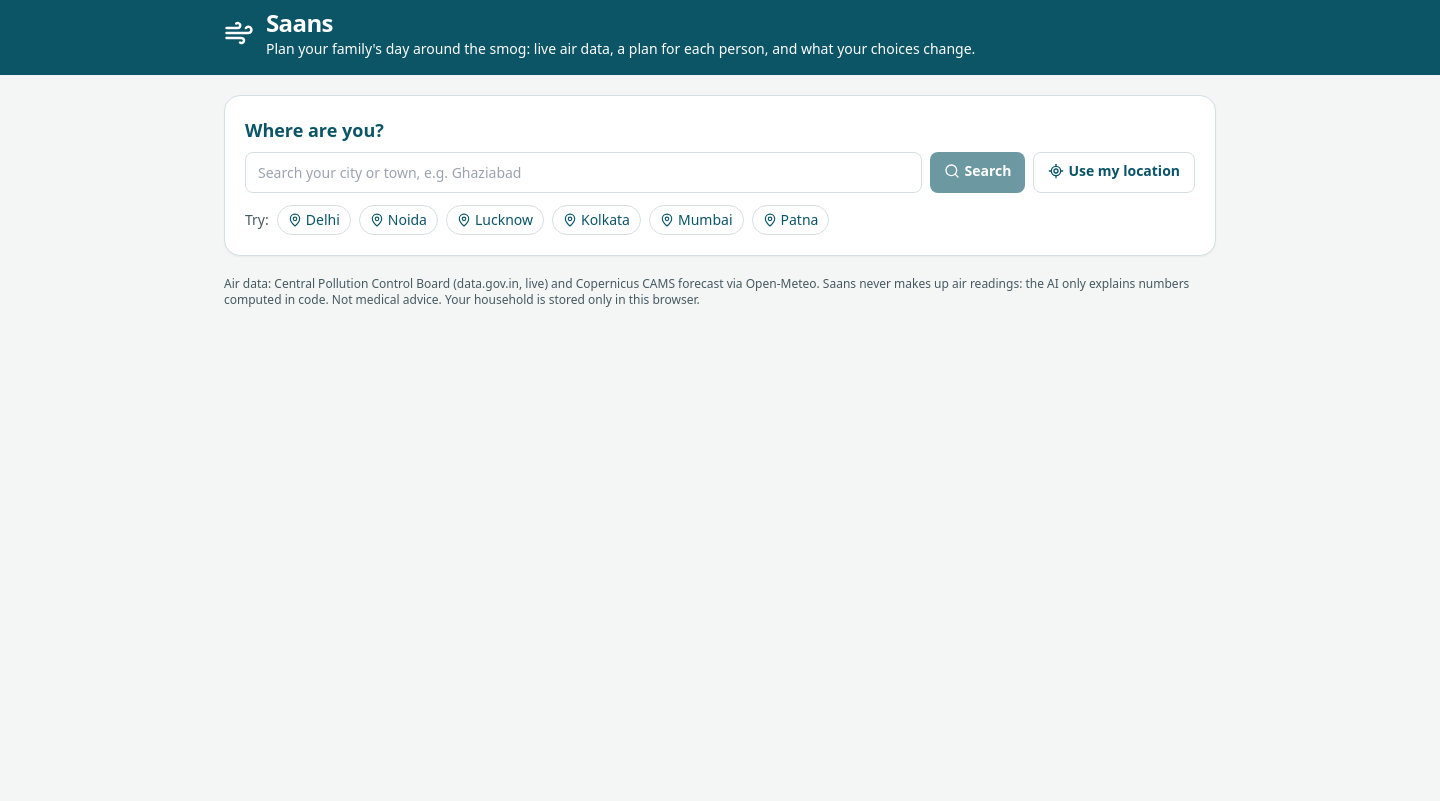
Scenario: Saans › answers questions from the computed plan when AI is off
The width and height of the screenshot is (1440, 801).
Step 1. Click the button "Delhi" → {"x": 314, "y": 220}, box [277, 205, 351, 235]
(page scrolled)
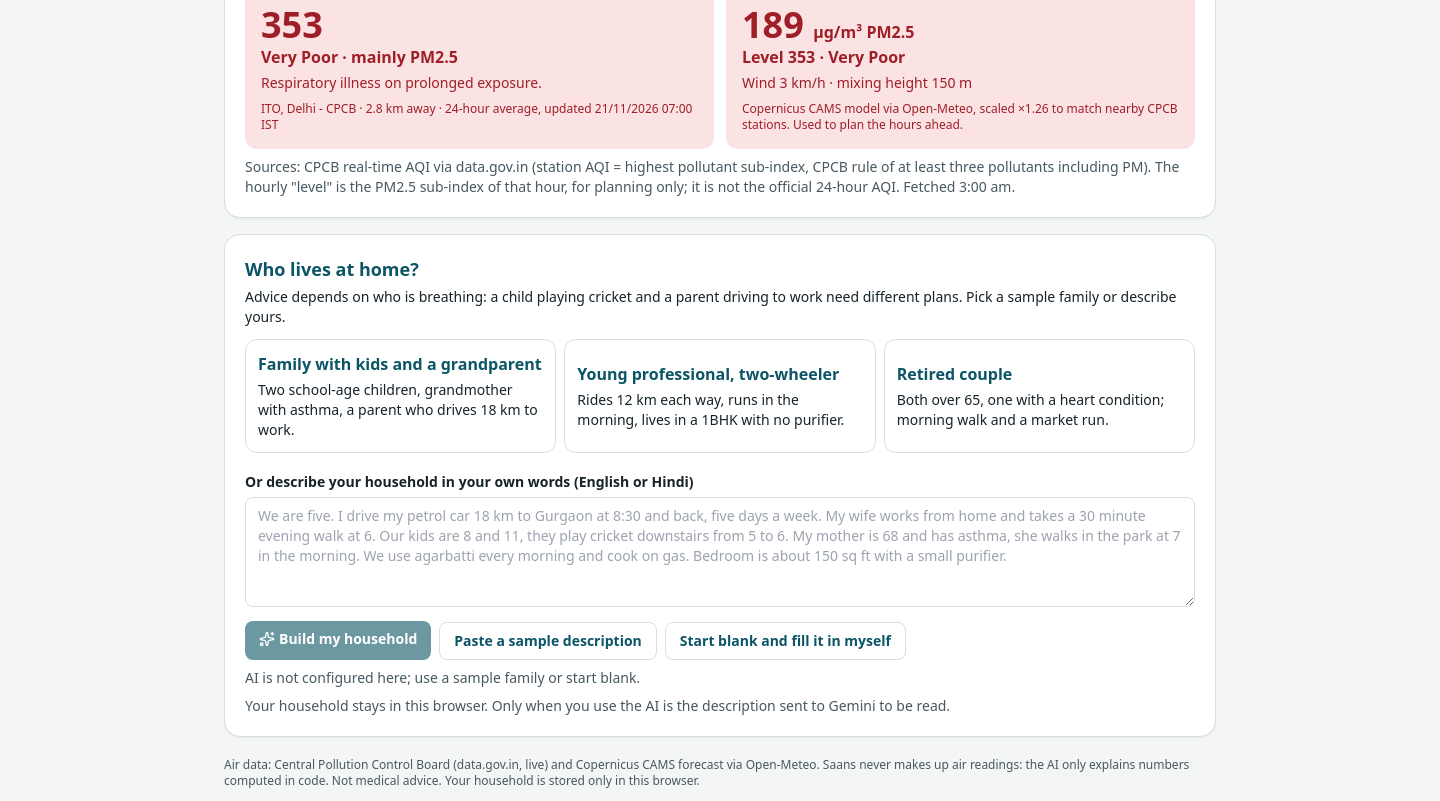
Step 2. Click the button "Family with kids and a grandparent" → {"x": 401, "y": 396}, box [245, 339, 556, 453]
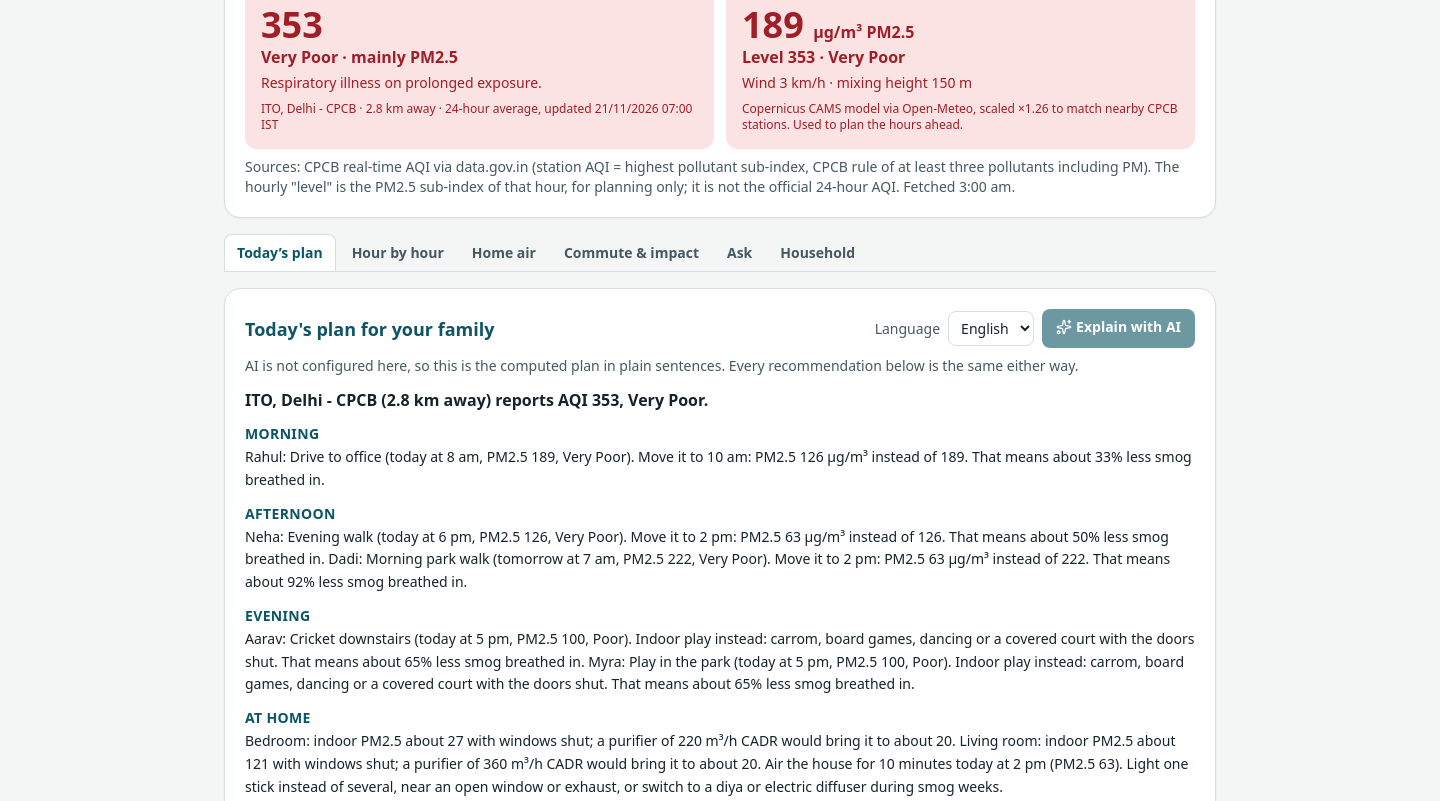
Result: the heading "Today's plan for your family" is shown at [245, 314, 494, 342]
Step 3. Click the tab "Ask" → {"x": 740, "y": 252}, box [715, 234, 764, 271]
(page scrolled)
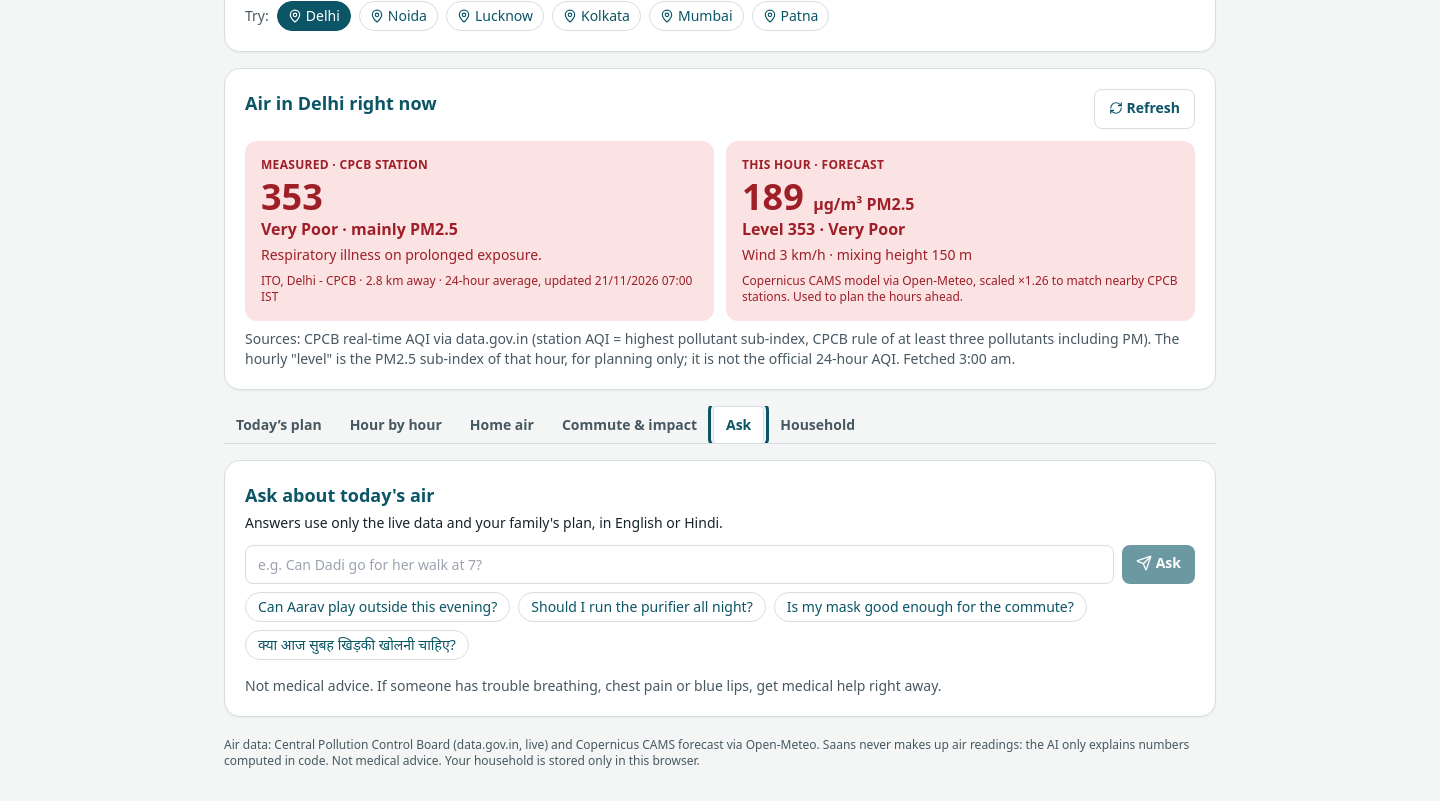
Step 4. Type "Can Aarav play cricket?" into the field named "Your question" → {"x": 679, "y": 564}, box [245, 545, 1114, 584]
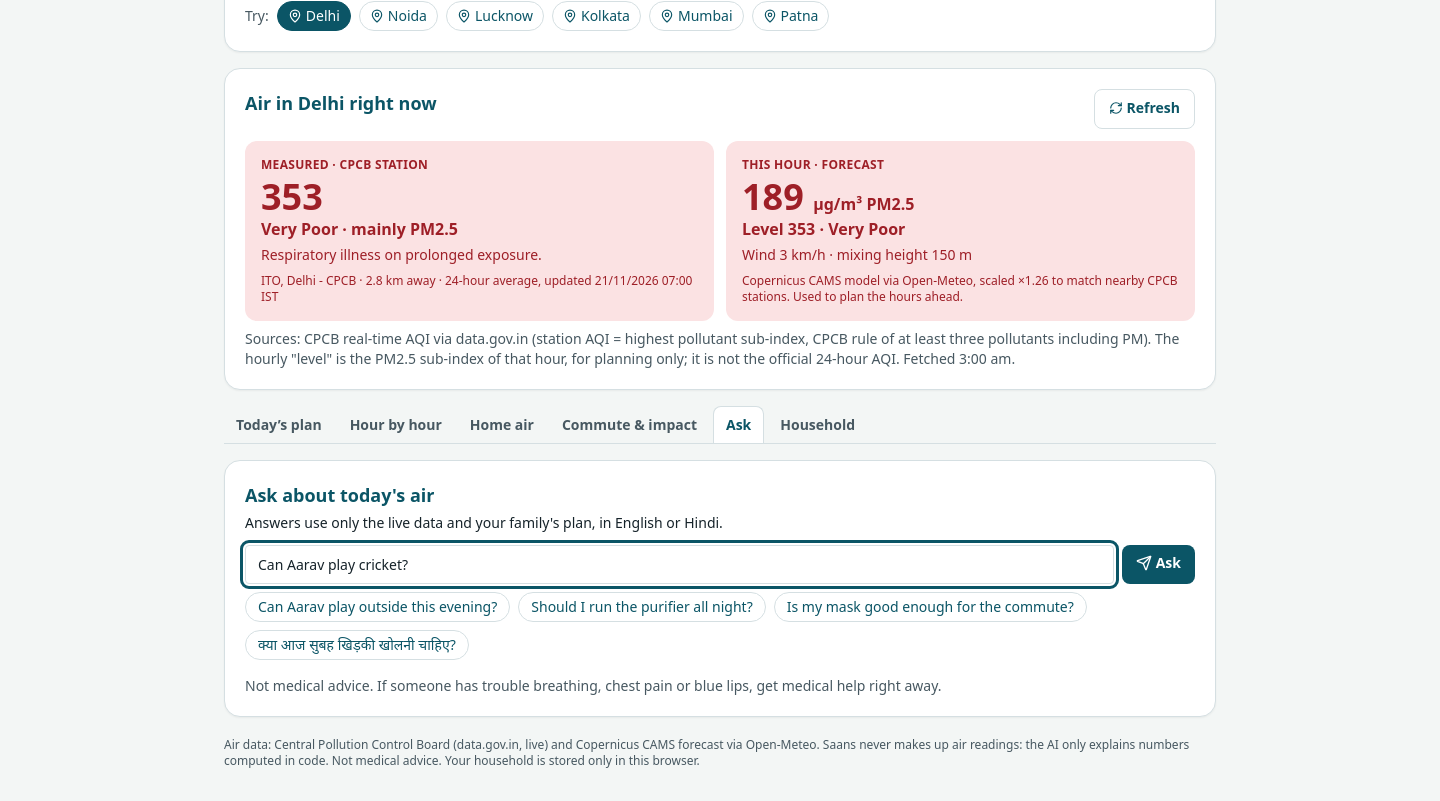
Step 5. Click the button "Ask" → {"x": 1158, "y": 564}, box [1122, 545, 1195, 584]
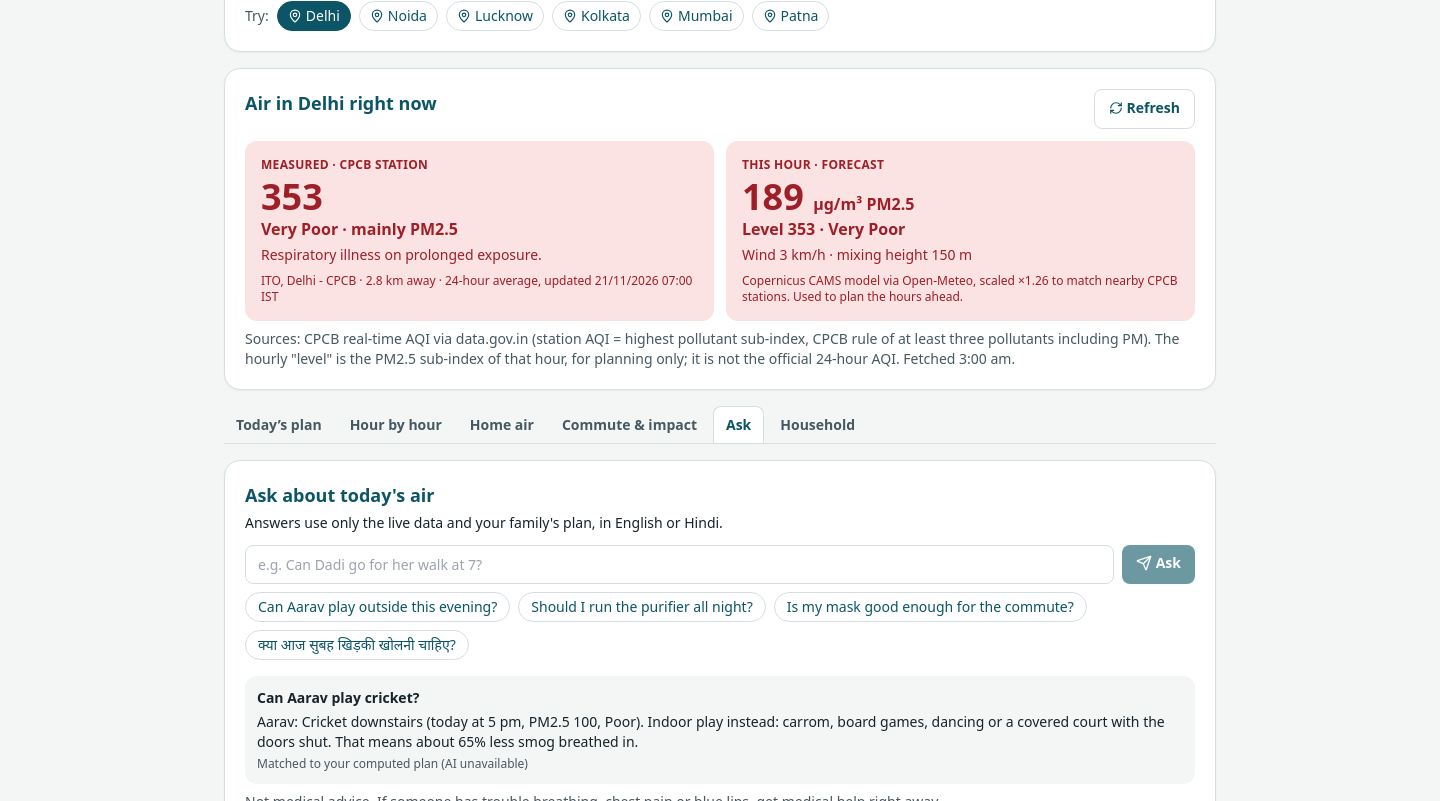
Result: the text "Matched to your computed plan (AI unavailable)" is shown at [257, 755, 528, 772]
Result: the text "Aarav: Cricket downstairs" is shown at [257, 712, 1165, 751]
